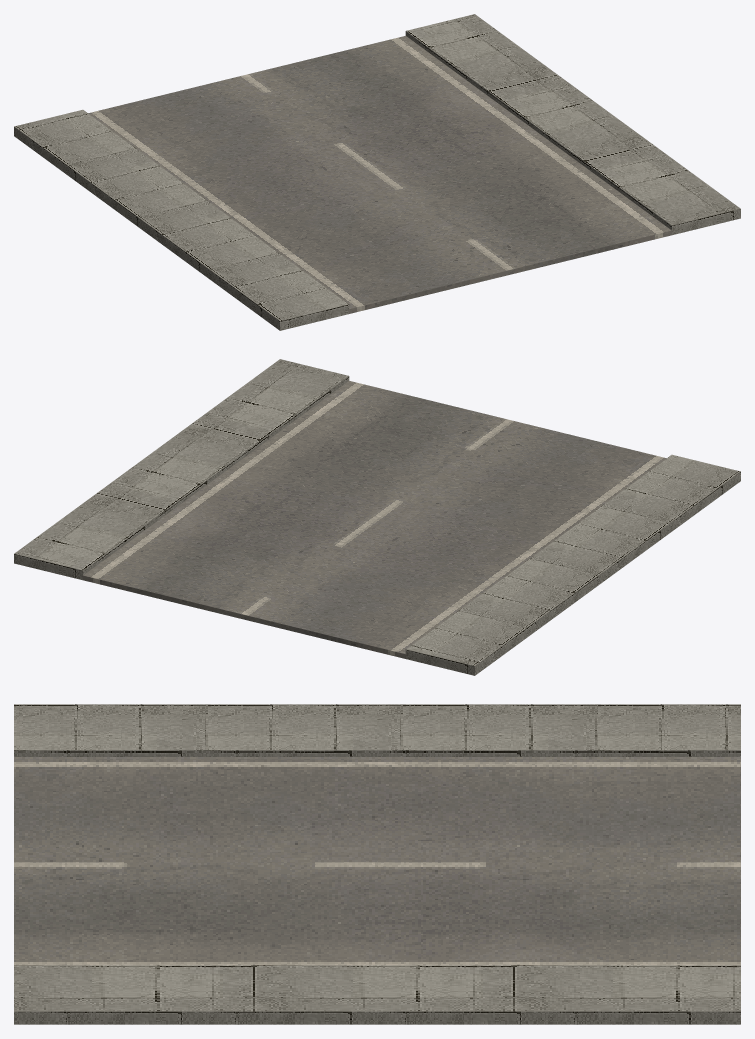
File: road_4_straight.glb
The picture shows the model from 3 angles, top to bottom: view 1: azimuth 30°, elevation 25°; view 2: azimuth 150°, elevation 25°; view 3: azimuth 270°, elevation 25°; orthographic projection. The views are drawn at different scales.
Visible parts, largest first — view 1: road_4_straight; view 2: road_4_straight; view 3: road_4_straight.
Boxes of the visible parts, x1,y1,x2,y2 form: road_4_straight: (14,14,740,330); road_4_straight: (14,359,740,675); road_4_straight: (14,704,740,1024).
Size of the model in its own units: 16 by 0.32 by 16.
2 materials, 2 textured.
